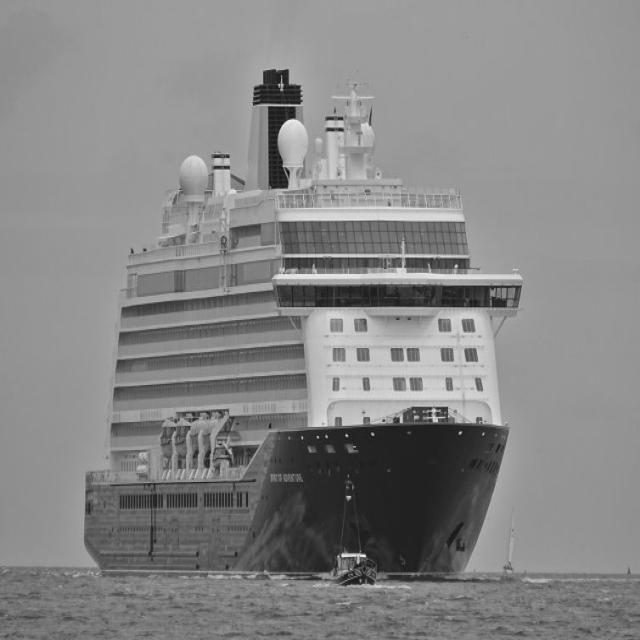cruises: (73, 65, 529, 590)
